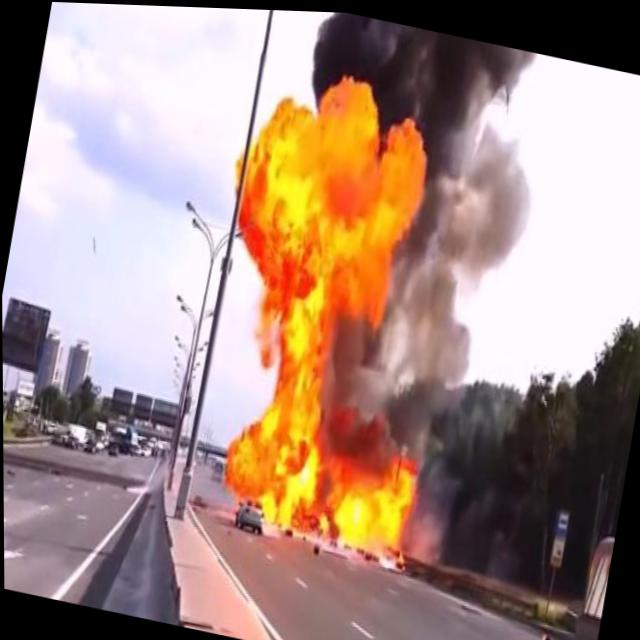fire: (184, 47, 502, 570)
